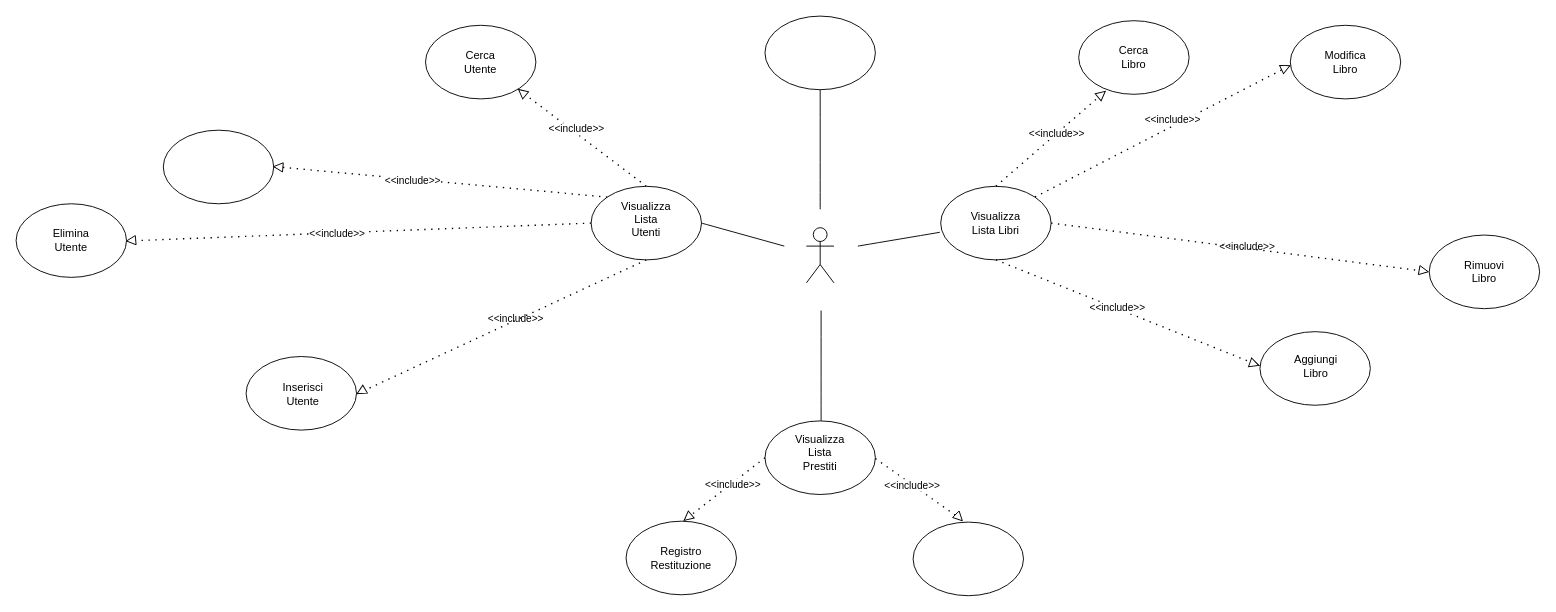
This 1556x612 diagram has some shape labels left out. The shapes that lost their labels are listed below. From the top down, each one's centre as x and y in pixels, then its label:
At (x=819, y=52): "Salva Archivio".
At (x=218, y=166): "Modifica Utente".
At (x=819, y=255): "Bibliotecario".
At (x=968, y=558): "Registra Prestito".
